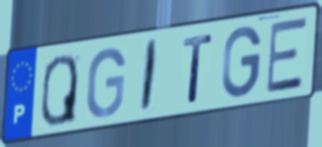E: (265, 14, 308, 96)
G: (220, 24, 264, 101), (84, 45, 127, 120)
I: (138, 37, 160, 116)
Q: (39, 52, 79, 128)
T: (182, 31, 214, 104)
